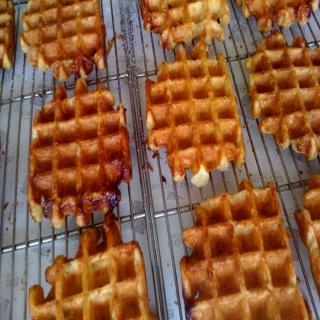Waffle: (180, 177, 310, 320), (27, 76, 132, 230), (146, 40, 246, 186), (27, 213, 156, 319), (244, 27, 320, 162), (19, 0, 107, 85), (136, 0, 231, 52), (292, 175, 320, 302), (234, 0, 320, 33), (0, 0, 16, 71)
